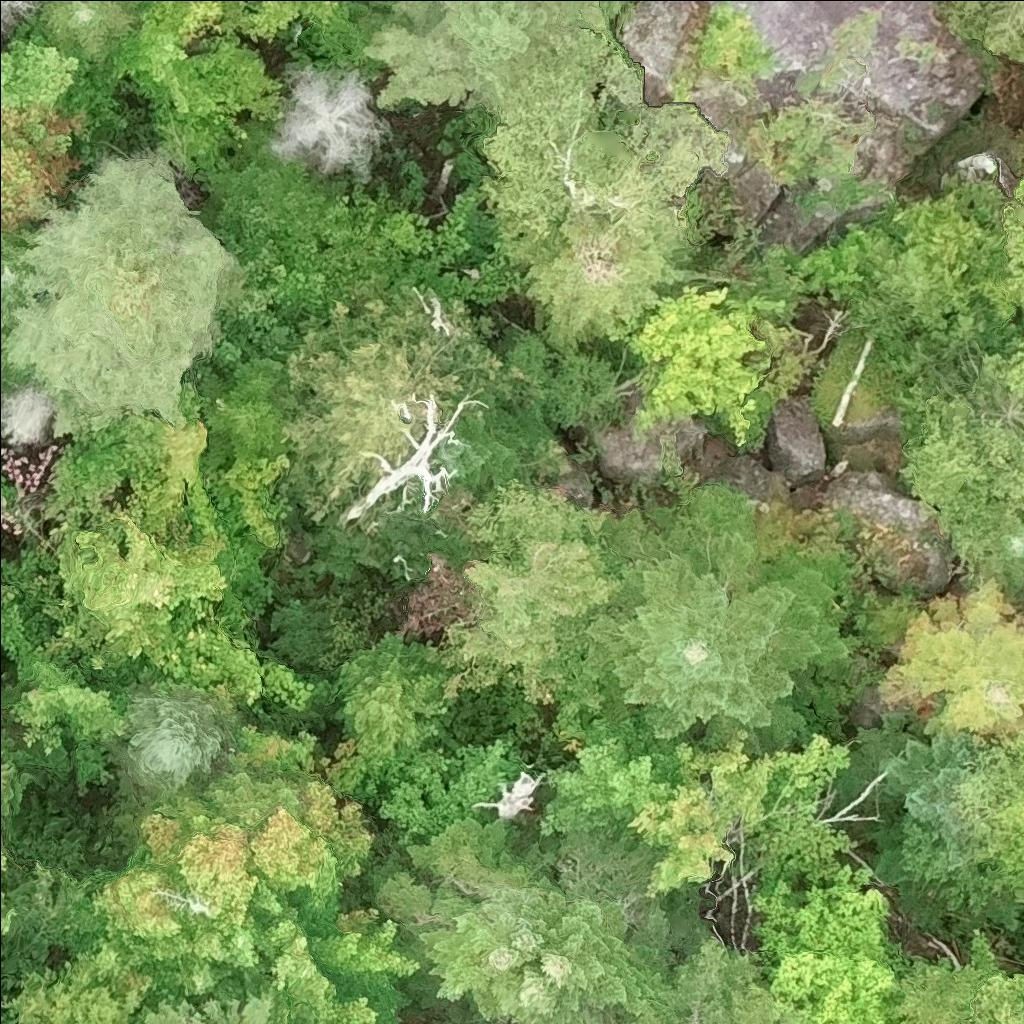crown: (72, 724, 419, 1023), (48, 379, 317, 714), (0, 148, 244, 443), (577, 511, 856, 759), (471, 30, 728, 249), (278, 290, 501, 521), (439, 479, 615, 725), (364, 0, 609, 118), (503, 212, 710, 347), (628, 725, 778, 899), (750, 862, 912, 1023), (876, 576, 1023, 748), (328, 629, 472, 804), (622, 284, 772, 451), (838, 703, 980, 866), (896, 371, 1023, 541), (537, 697, 681, 842), (1, 637, 131, 796), (748, 734, 858, 894), (375, 729, 531, 838), (541, 895, 673, 1020), (105, 684, 246, 799), (405, 898, 530, 1019), (1, 934, 167, 1023), (0, 12, 127, 125), (103, 13, 235, 121), (275, 64, 392, 180), (635, 931, 778, 1023), (473, 841, 575, 959), (0, 106, 90, 232), (892, 927, 1002, 1023), (404, 813, 522, 896), (469, 957, 596, 1023), (980, 737, 1023, 903), (39, 0, 146, 61), (943, 0, 1023, 60), (240, 0, 342, 44), (137, 995, 280, 1023), (997, 176, 1023, 318), (135, 0, 229, 38), (956, 973, 1023, 1023), (0, 226, 31, 330), (0, 718, 32, 817), (986, 505, 1023, 588), (983, 339, 1023, 396), (0, 849, 16, 955), (0, 0, 39, 36), (602, 0, 637, 26)
